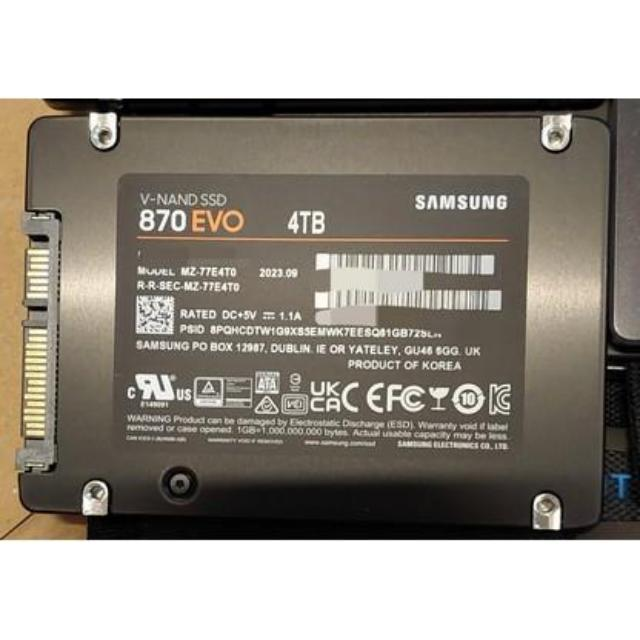DISK: (16, 119, 601, 524)
